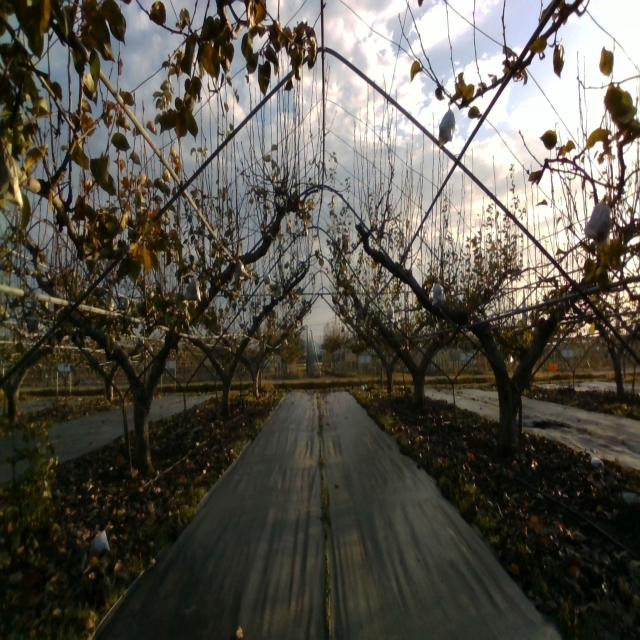pearbags: (0, 137, 24, 211), (584, 194, 612, 243), (439, 103, 455, 148), (183, 278, 202, 302), (431, 282, 446, 306), (235, 259, 248, 281)
